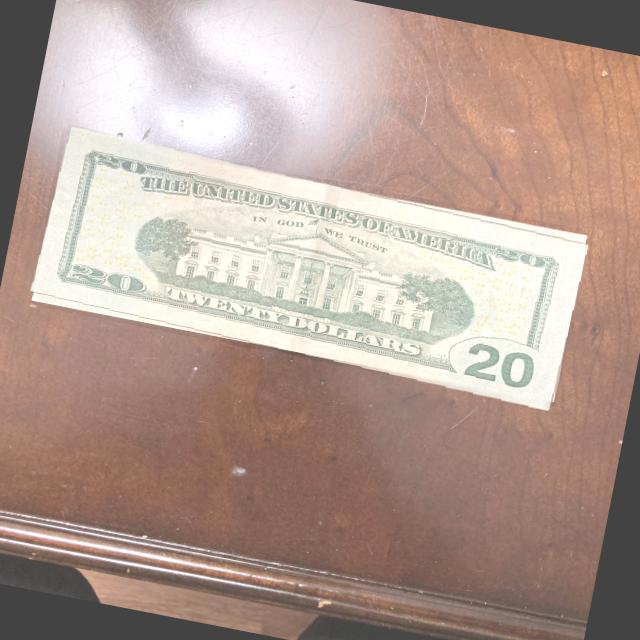twenty: (28, 128, 590, 408)
